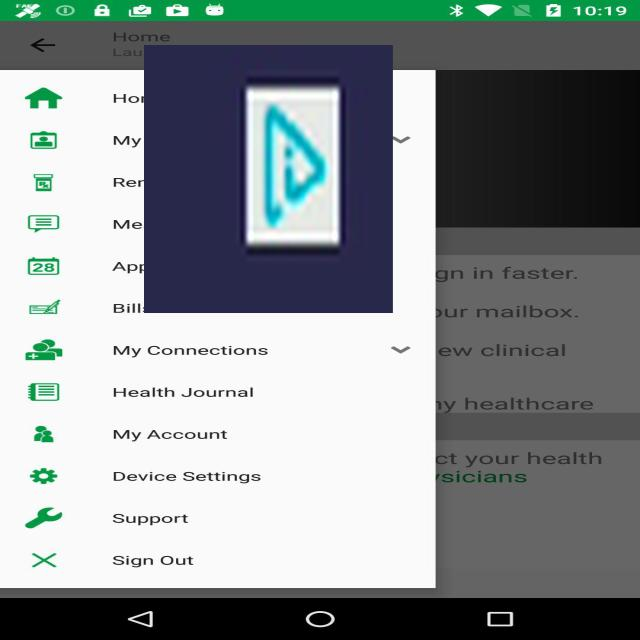sneaking: (144, 45, 393, 313)
